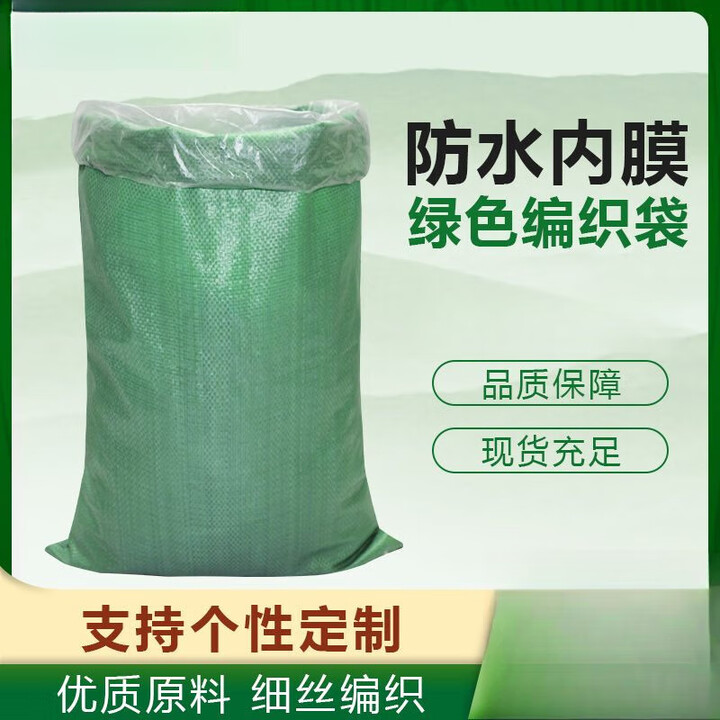Parcel: (46, 102, 402, 575)
